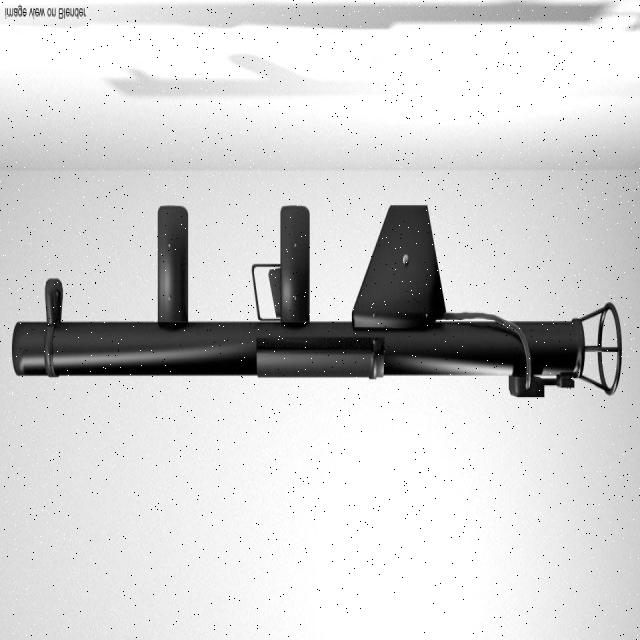bazooka: (11, 190, 626, 416)
